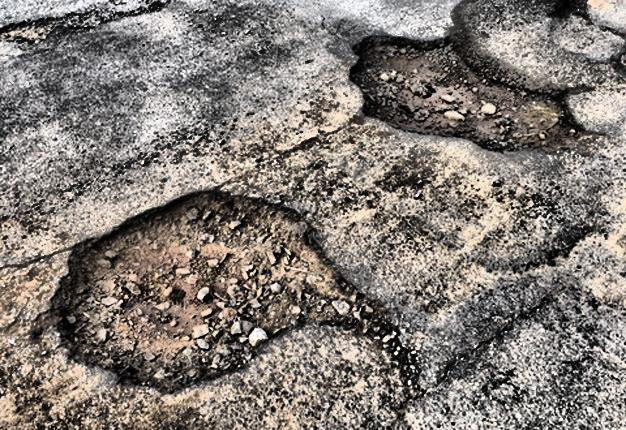pothole: (47, 182, 416, 391), (348, 35, 595, 157)
